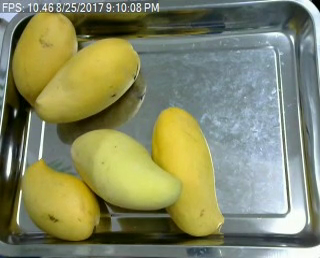Mango: (146, 103, 225, 235), (71, 127, 185, 212), (34, 38, 139, 128), (10, 8, 76, 105), (23, 160, 102, 241)
